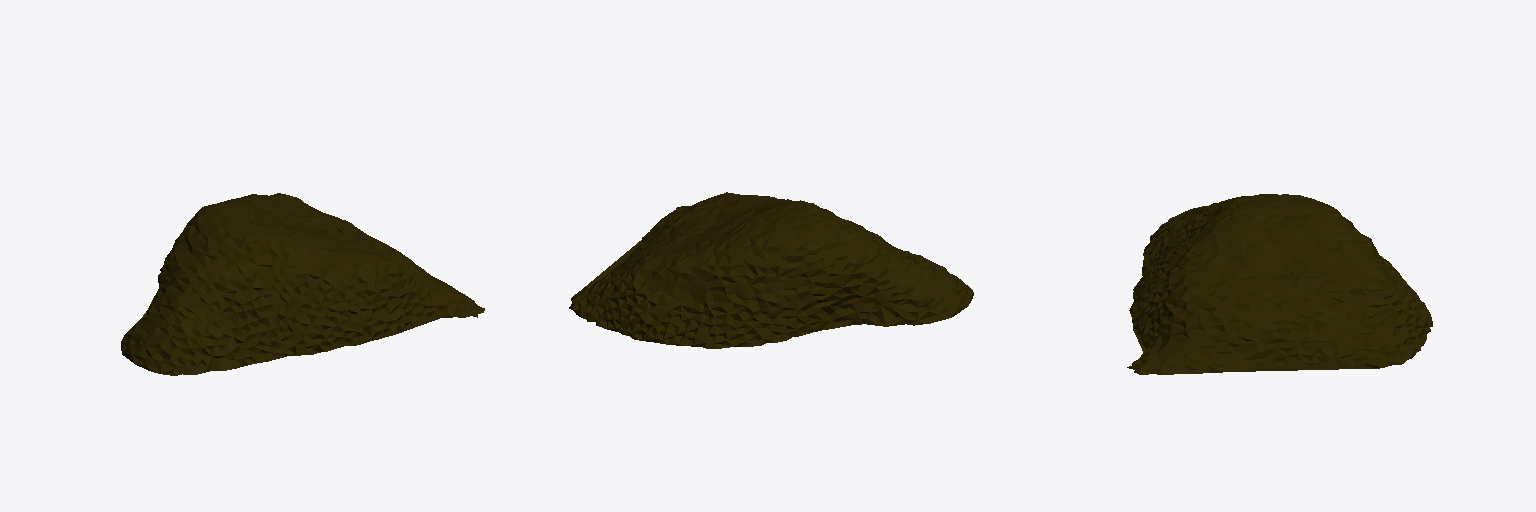
File: Object_PoritesCoral3.obj
The picture shows the model from 3 angles: view 1: azimuth 30°, elevation 25°; view 2: azimuth 150°, elevation 25°; view 3: azimuth 270°, elevation 25°; orthographic projection.
Parts seen in each view (by area): view 1: PoritesCoral3; view 2: PoritesCoral3; view 3: PoritesCoral3.
Boxes of the visible parts, <box> form: PoritesCoral3: <box>121,193,484,375</box>; PoritesCoral3: <box>569,192,973,348</box>; PoritesCoral3: <box>1127,194,1432,374</box>.
Size of the model in its own units: 16.37 by 4.05 by 13.58.